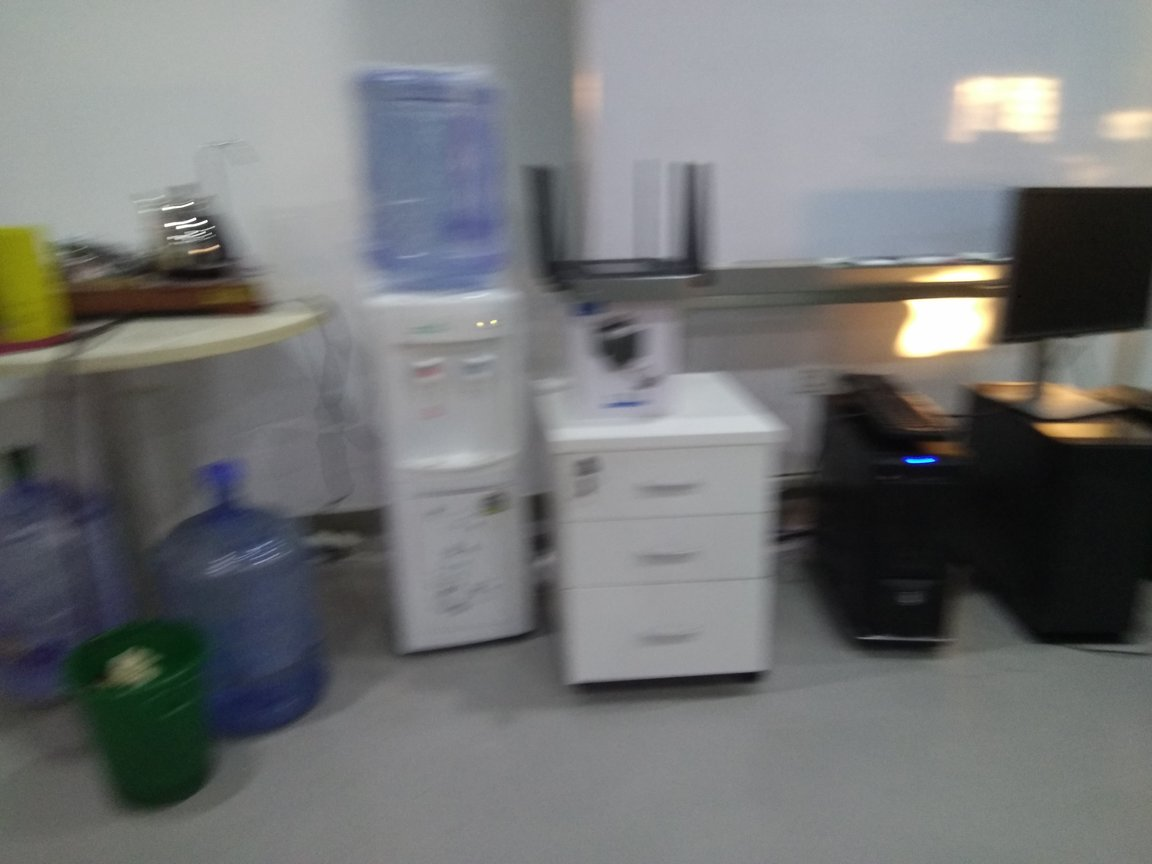computer: (968, 373, 1152, 666), (811, 387, 968, 666)
drawer chest: (534, 377, 794, 690)
monitor: (996, 177, 1152, 402)
scuttlebutt: (160, 464, 325, 735), (343, 57, 522, 292), (1, 443, 119, 708)
water dispenser: (358, 277, 547, 666)
